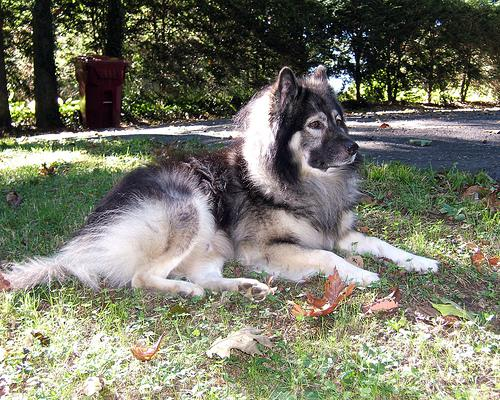dog-keeshond: (270, 63, 357, 165)
